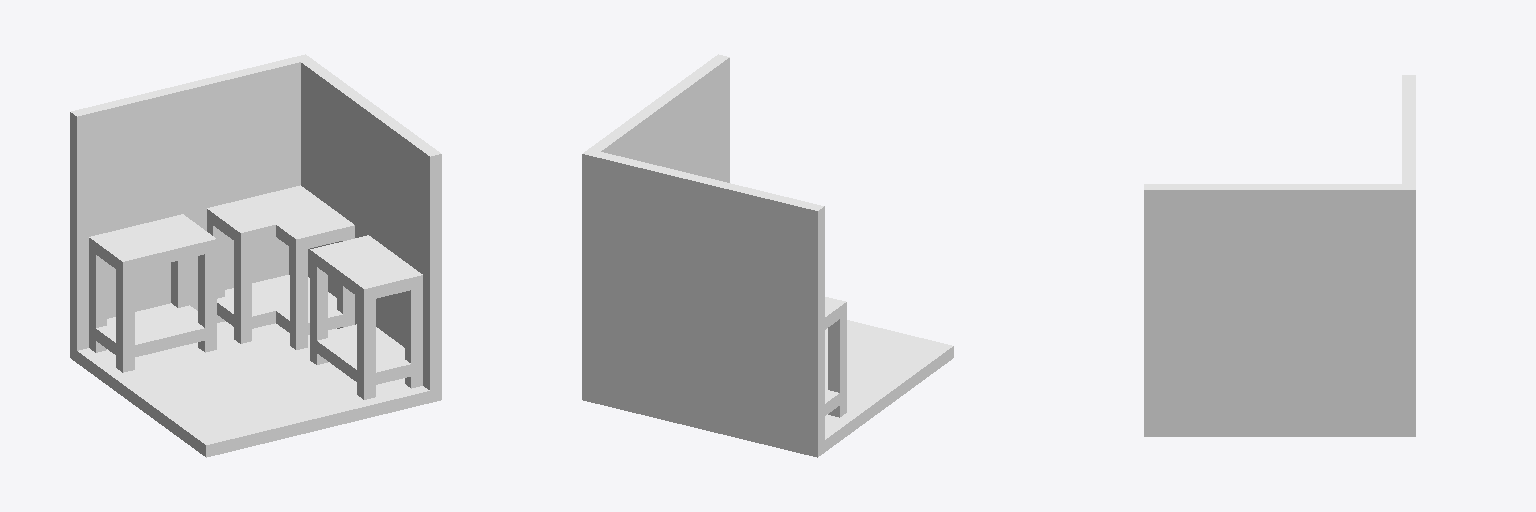
The model's file is level_three-4.obj.
3 renders of one model, left to right at view 1: azimuth 30°, elevation 25°; view 2: azimuth 150°, elevation 25°; view 3: azimuth 270°, elevation 25°, orthographic.
Visible parts, largest first — view 1: level_three-4; view 2: level_three-4; view 3: level_three-4.
Boxes of the visible parts, x1=… form: level_three-4: x1=70, y1=54, x2=441, y2=457; level_three-4: x1=582, y1=54, x2=953, y2=457; level_three-4: x1=1144, y1=75, x2=1415, y2=436.
Size of the model in its own units: 20 by 20 by 20.